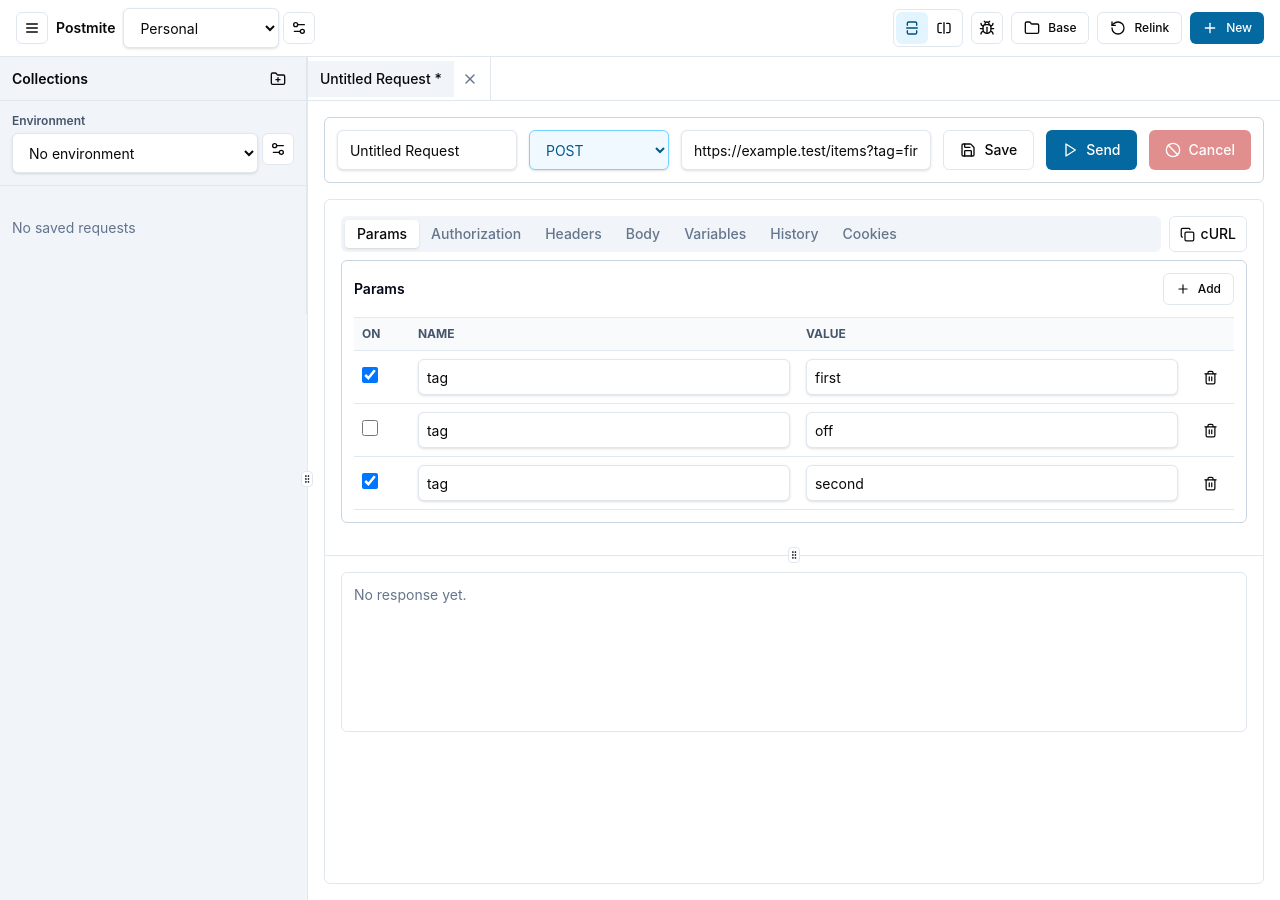
Scenario: App request editor › copies the latest unsaved Draft through typed cURL generation with ordered fields
The image size is (1280, 900).
Select "PATCH" in the dropdown named "Method": (599, 150) [529,130,669,170]
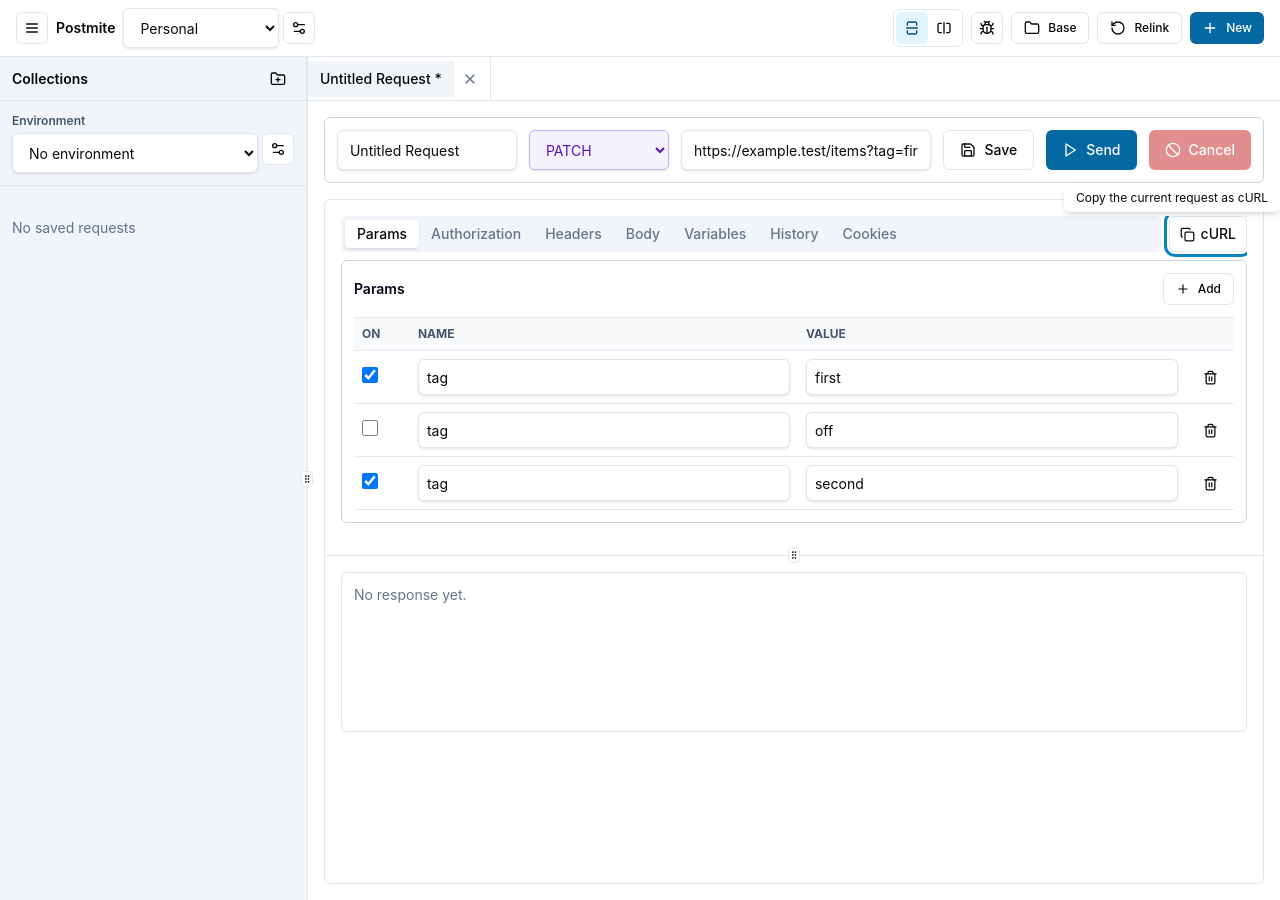
Expected: the button with aria-label "Copy cURL" is enabled, [1169,216,1247,252]
Press Enter
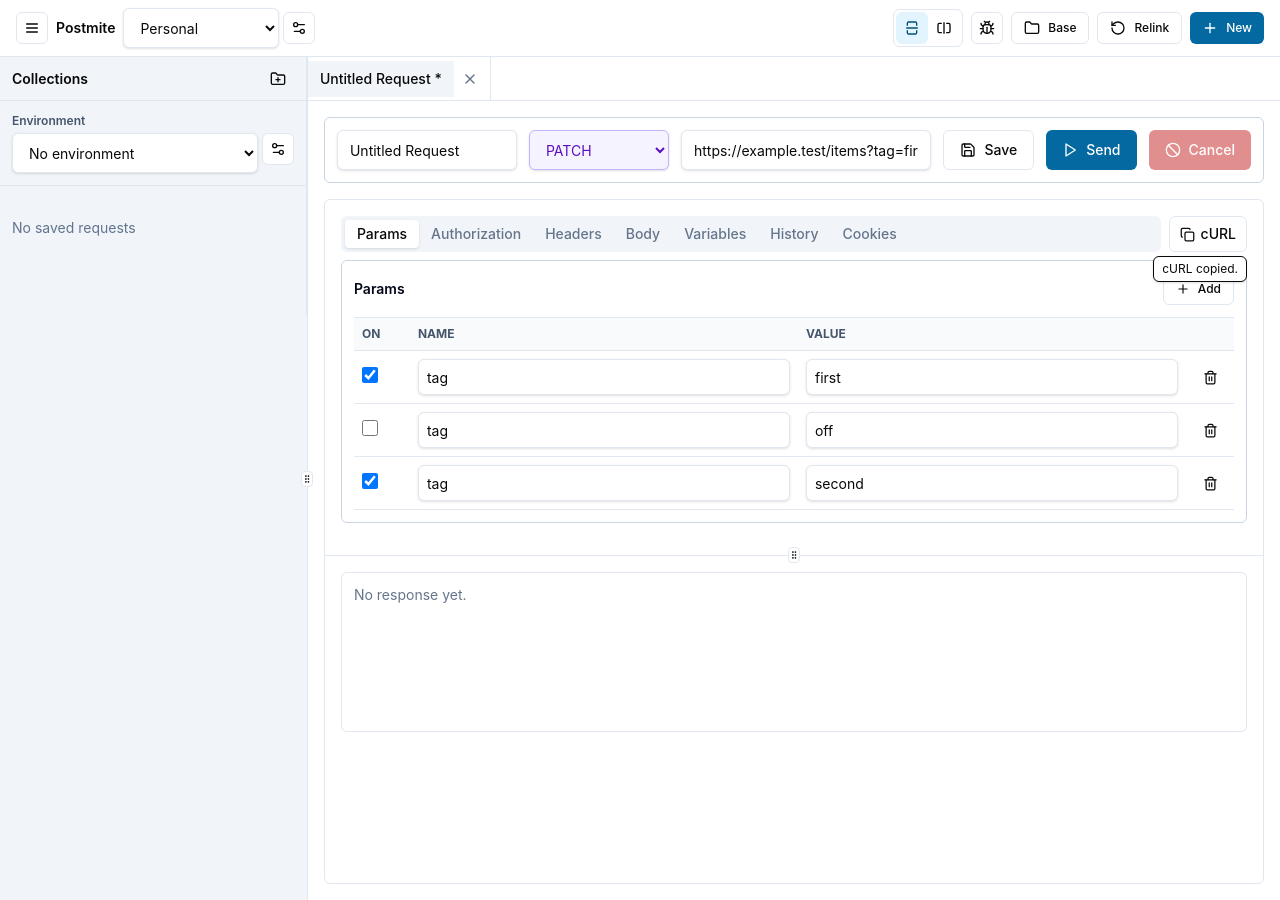
Expected: the text "cURL copied." is shown, [1153,256,1247,282]
